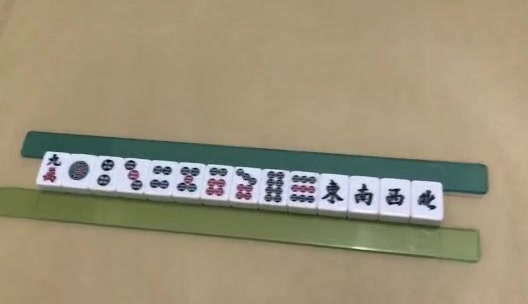1p: (67, 161, 89, 180)
1z: (322, 181, 342, 204)
2p: (99, 160, 112, 186)
2z: (354, 185, 373, 205)
3p: (125, 160, 142, 190)
3z: (386, 188, 405, 206)
4p: (151, 166, 170, 190)
4z: (417, 189, 438, 211)
5p: (178, 166, 199, 193)
6p: (205, 167, 226, 196)
7p: (235, 167, 256, 201)
8p: (265, 172, 283, 204)
9m: (42, 153, 62, 182)
9p: (290, 175, 316, 204)
